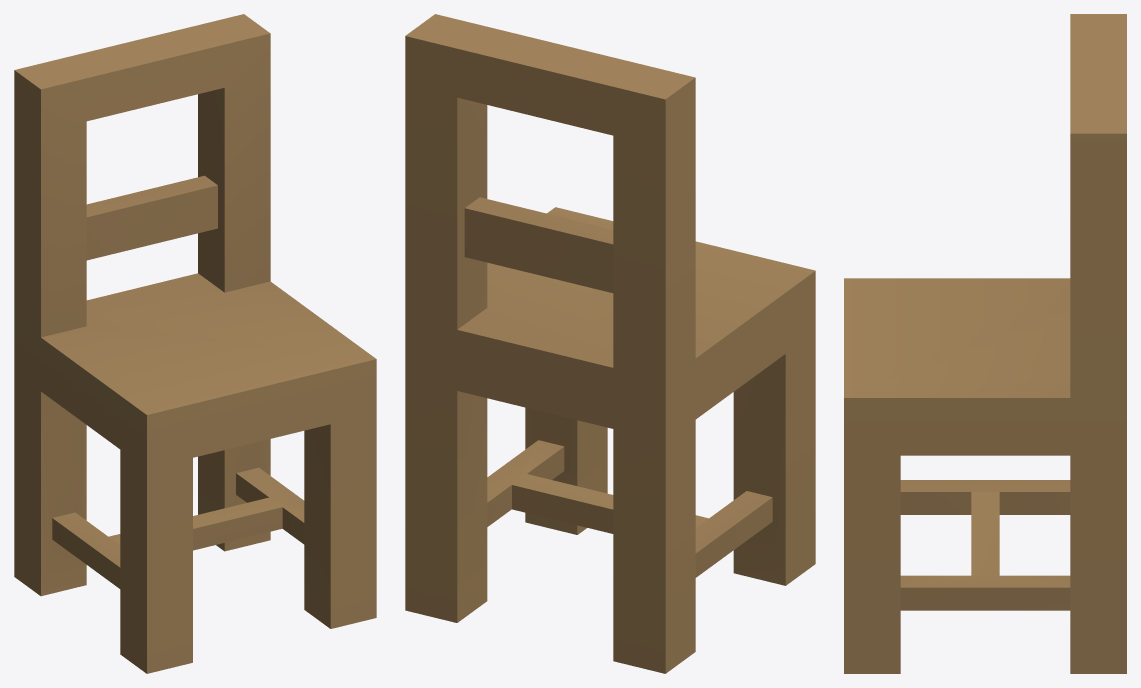
The model's file is chair.glb.
3 views of the same model, side by side, from view 1: azimuth 30°, elevation 25°; view 2: azimuth 150°, elevation 25°; view 3: azimuth 270°, elevation 25° (orthographic). The views are drawn at different scales.
Visible parts, largest first — view 1: chair; view 2: chair; view 3: chair.
Part boxes in pixels (x1=…): chair: x1=14, y1=14, x2=376, y2=673; chair: x1=405, y1=14, x2=815, y2=673; chair: x1=844, y1=14, x2=1126, y2=673.
Size of the model in its own units: 0.46 by 0.97 by 0.46.
